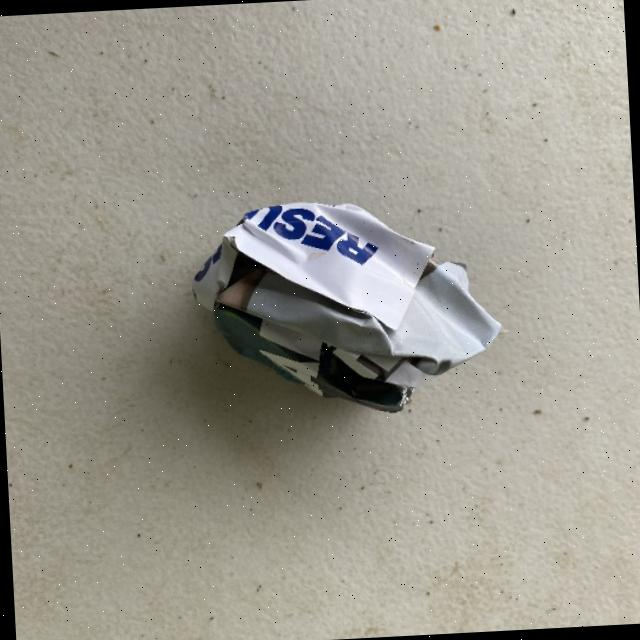paper: (187, 190, 506, 420)
